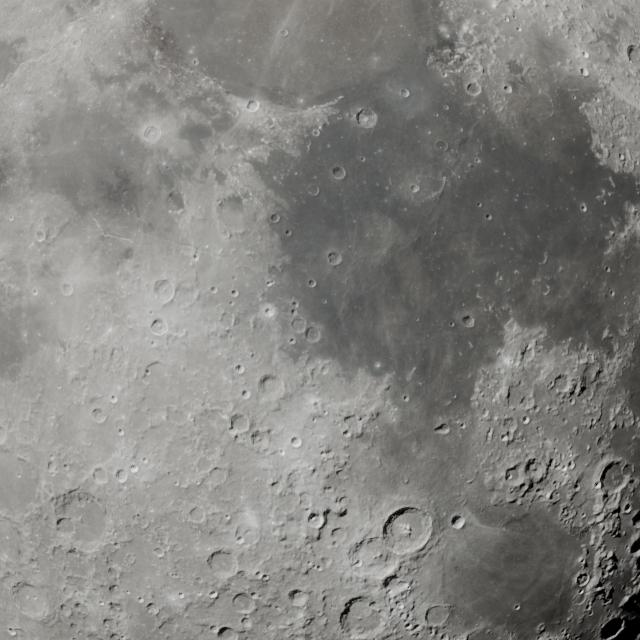crater: (377, 504, 438, 559), (338, 595, 382, 637), (598, 455, 632, 496), (205, 548, 241, 579), (593, 610, 630, 640), (383, 571, 409, 598), (354, 106, 378, 132), (521, 457, 547, 481), (232, 592, 256, 616), (327, 160, 350, 180), (622, 43, 640, 67), (628, 532, 640, 566), (554, 372, 569, 395), (218, 624, 240, 638), (448, 516, 467, 532), (327, 249, 341, 269), (630, 508, 640, 532), (461, 315, 477, 329), (531, 464, 539, 474)
rock: (400, 519, 416, 542), (529, 463, 537, 472), (612, 473, 618, 482)
